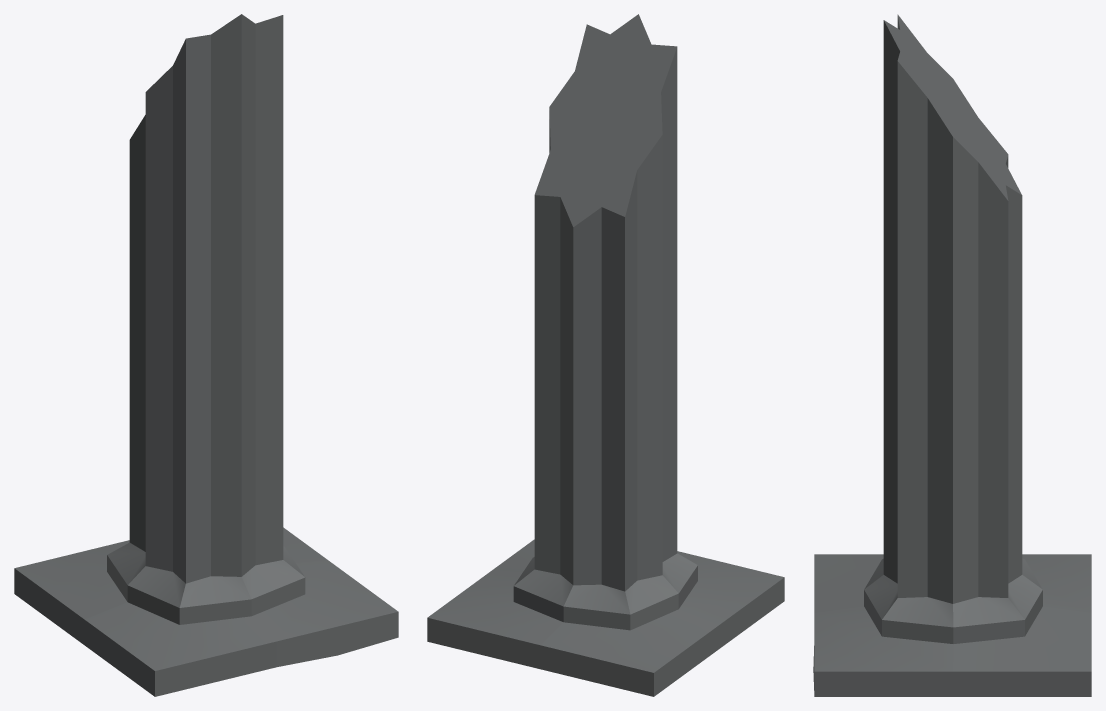
File: PillarBroken1.fbx
3 renders of one model, left to right at view 1: azimuth 30°, elevation 25°; view 2: azimuth 150°, elevation 25°; view 3: azimuth 270°, elevation 25°, orthographic. The views are drawn at different scales.
Parts seen in each view (by area): view 1: M. Pillar 3; view 2: M. Pillar 3; view 3: M. Pillar 3.
Boxes of the visible parts, x1,y1,x2,y2 form: M. Pillar 3: (14, 14, 398, 696); M. Pillar 3: (427, 14, 784, 696); M. Pillar 3: (813, 14, 1091, 696).
Size of the model in its own units: 358 by 885 by 359.
